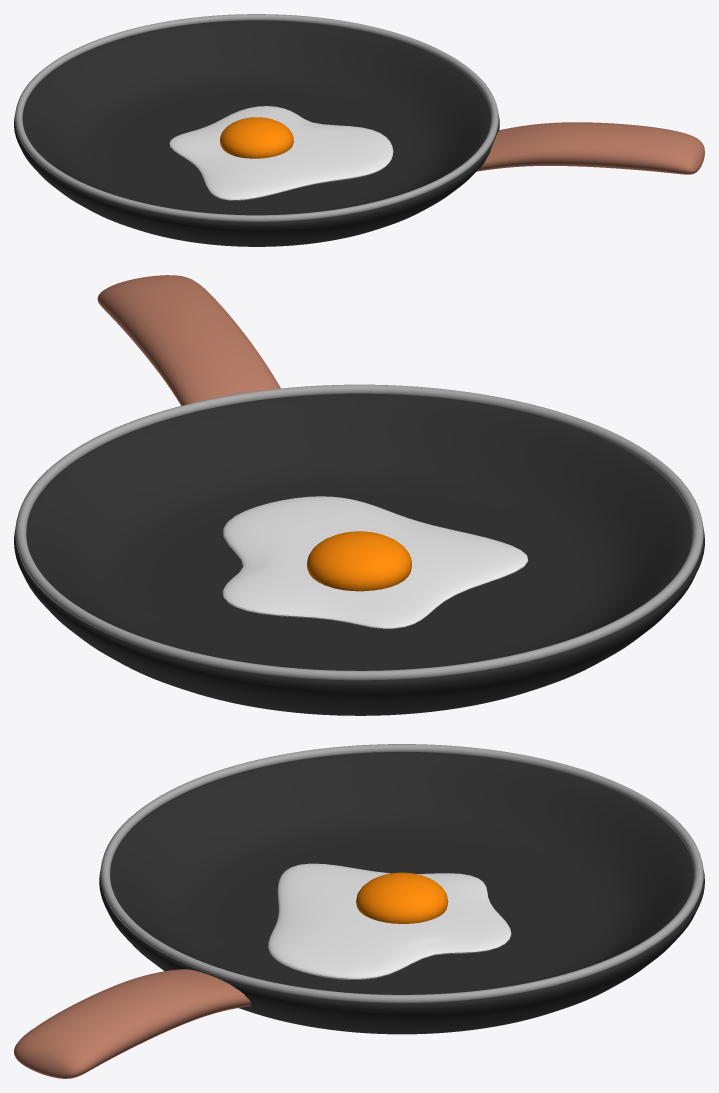
File: egg-pan-fun-loading-animated-3d-icon-1028950873978.glb
The picture shows the model from 3 angles, top to bottom: view 1: azimuth 30°, elevation 25°; view 2: azimuth 150°, elevation 25°; view 3: azimuth 270°, elevation 25°; orthographic projection. The views are drawn at different scales.
Visible parts, largest first — view 1: Base Pan, White Egg, Handle, Metal, Yellow Egg; view 2: Base Pan, White Egg, Metal, Handle, Yellow Egg; view 3: Base Pan, White Egg, Handle, Metal, Yellow Egg.
Boxes of the visible parts, x1,y1,x2,y2 form: Base Pan: [14, 20, 499, 246]; White Egg: [169, 106, 393, 200]; Handle: [477, 122, 704, 174]; Metal: [15, 14, 498, 221]; Yellow Egg: [220, 117, 293, 158]; Base Pan: [14, 393, 704, 715]; White Egg: [222, 496, 528, 628]; Metal: [15, 384, 703, 680]; Handle: [97, 275, 280, 405]; Yellow Egg: [307, 531, 411, 591]; Base Pan: [99, 752, 704, 1034]; White Egg: [268, 863, 511, 979]; Handle: [14, 969, 251, 1078]; Metal: [100, 744, 703, 1003]; Yellow Egg: [356, 872, 448, 923].
Size of the model in its own units: 3.1 by 0.3799 by 2.83.
